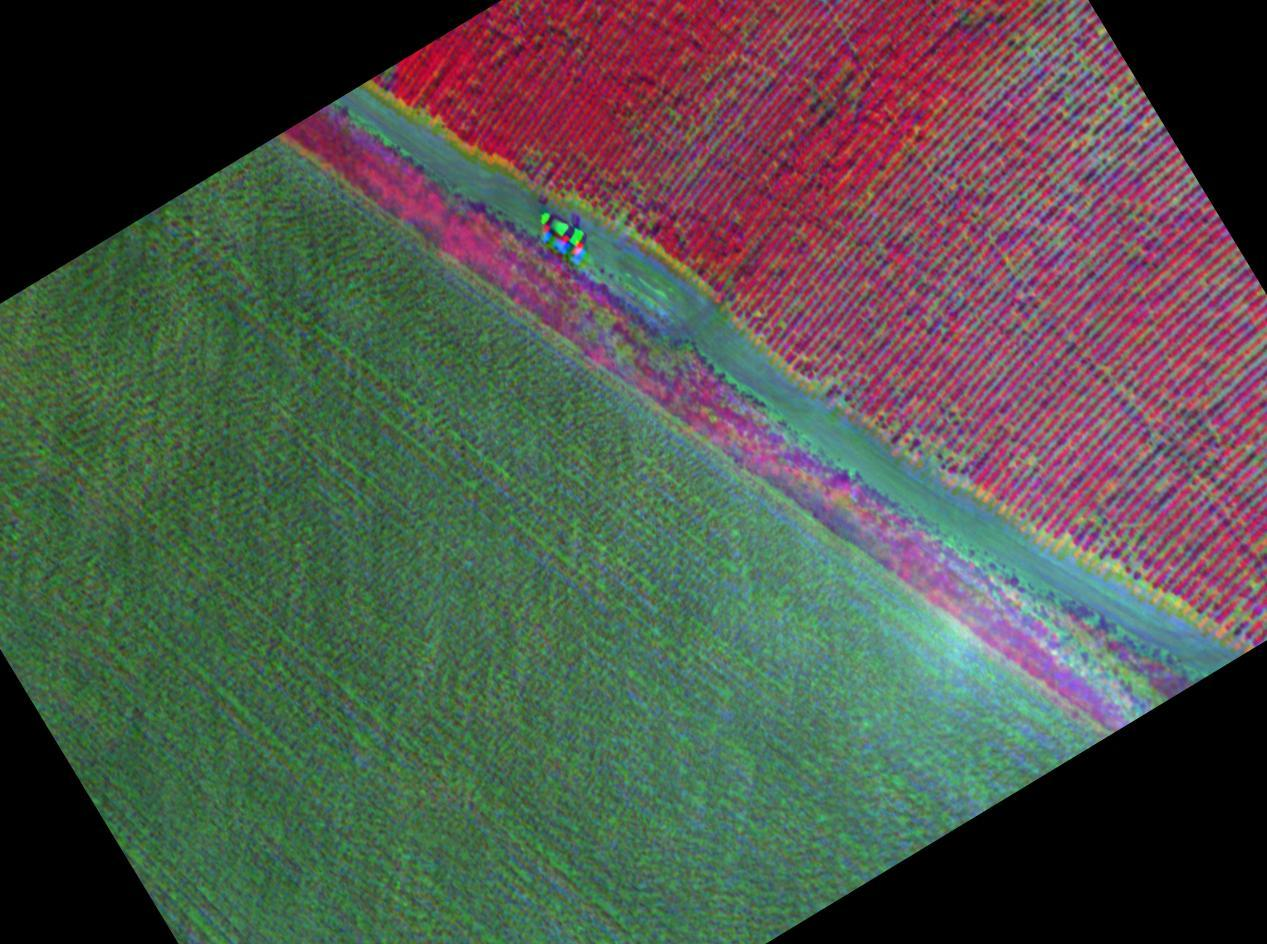dc: (1083, 121, 1182, 212), (1047, 508, 1152, 584), (891, 408, 985, 476), (569, 164, 652, 233), (1007, 38, 1100, 93), (917, 135, 974, 200)
